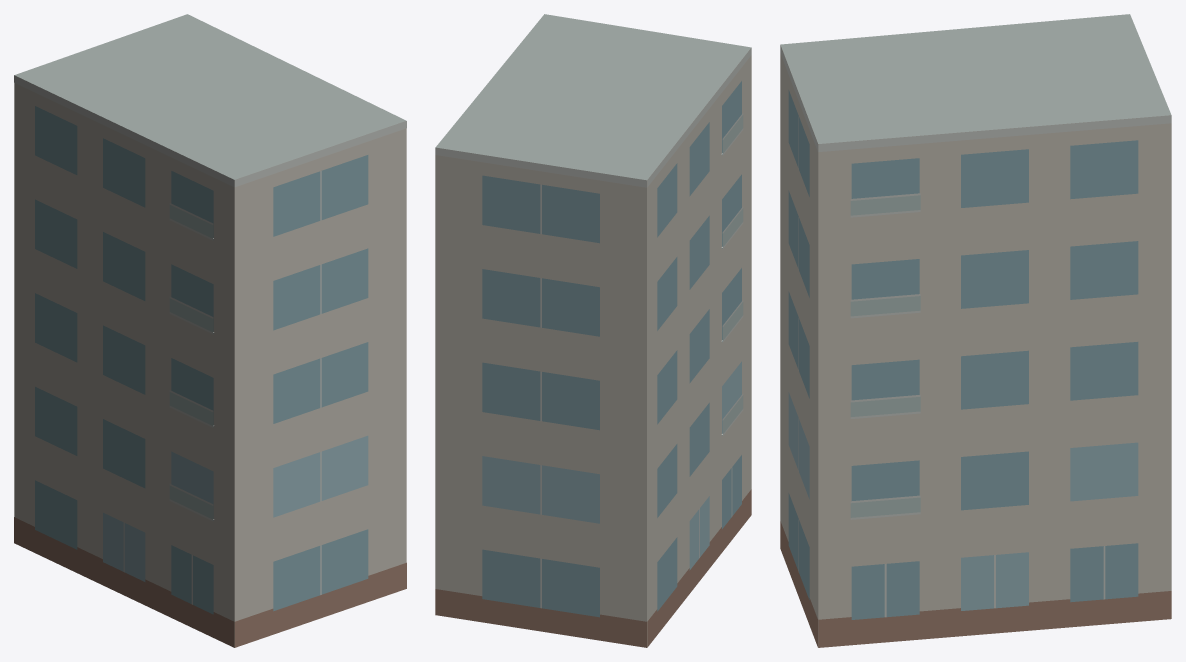
Rendered from survey-upis-32873946.glb.
3 renders of one model, left to right at view 1: azimuth 30°, elevation 25°; view 2: azimuth 150°, elevation 25°; view 3: azimuth 270°, elevation 25°, orthographic. The views are drawn at different scales.
Visible parts, largest first — view 1: survey-upis-32873946.tmp; view 2: survey-upis-32873946.tmp; view 3: survey-upis-32873946.tmp.
Boxes of the visible parts, box(x1,y1,x2,y2) form: survey-upis-32873946.tmp: box(14, 14, 406, 647); survey-upis-32873946.tmp: box(435, 14, 751, 647); survey-upis-32873946.tmp: box(780, 14, 1171, 647).
Bounding box in the file's own units: 8.43 × 15.2 × 10.71.
